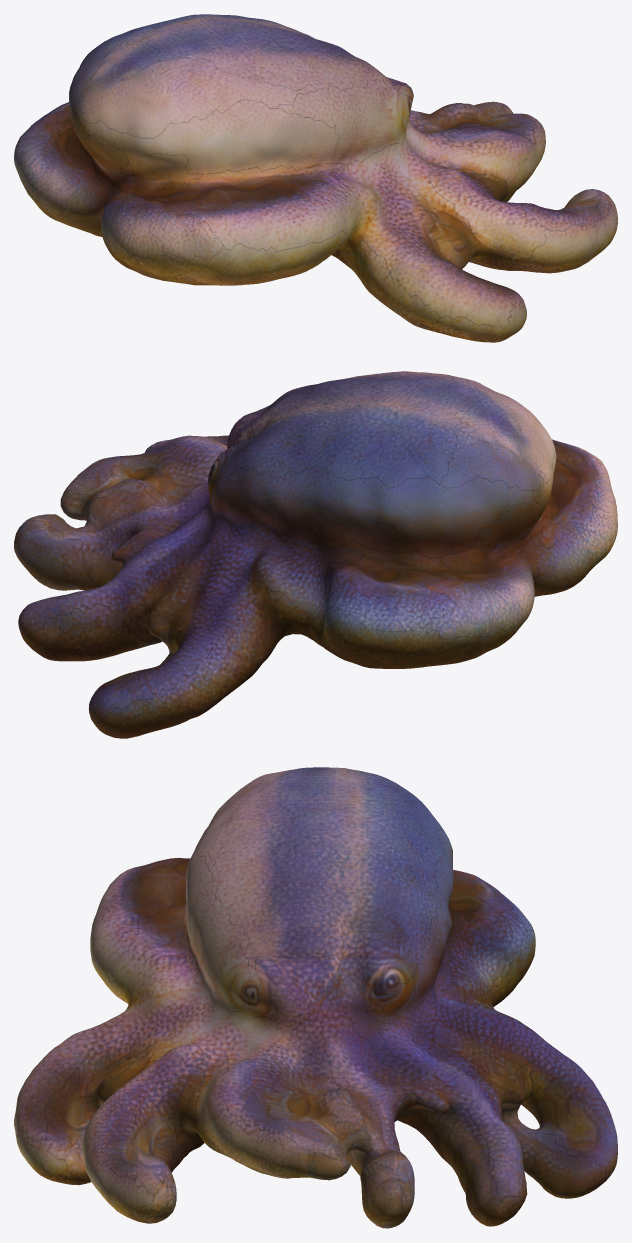
File: kraken.glb
3 views of the same model, one above another, from view 1: azimuth 30°, elevation 25°; view 2: azimuth 150°, elevation 25°; view 3: azimuth 270°, elevation 25° (orthographic). The views are drawn at different scales.
Visible parts, largest first — view 1: Mesh1; view 2: Mesh1; view 3: Mesh1.
Boxes of the visible parts, box(x1,y1,x2,y2) form: Mesh1: box(14, 14, 617, 342); Mesh1: box(14, 371, 617, 738); Mesh1: box(14, 767, 617, 1228).
Bounding box in the file's own units: 1.2 × 0.6761 × 1.19.
Materials: 1 (1 with a texture image).
